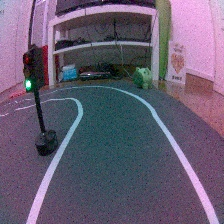green: (21, 44, 65, 159)
